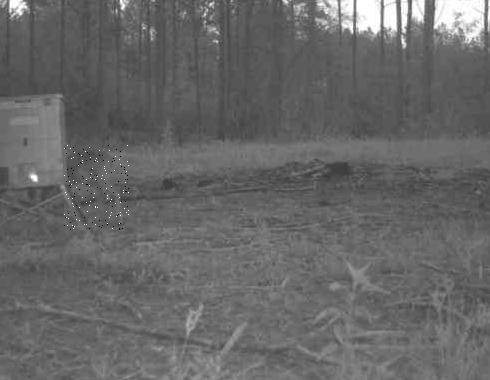Deer: (65, 145, 130, 230)
